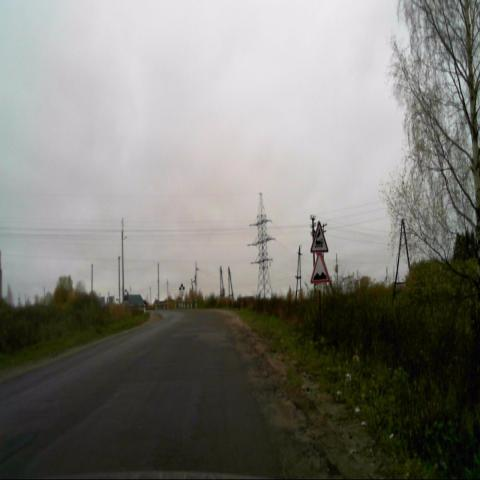1_16: (310, 251, 330, 284)
1_2: (310, 221, 329, 253)
